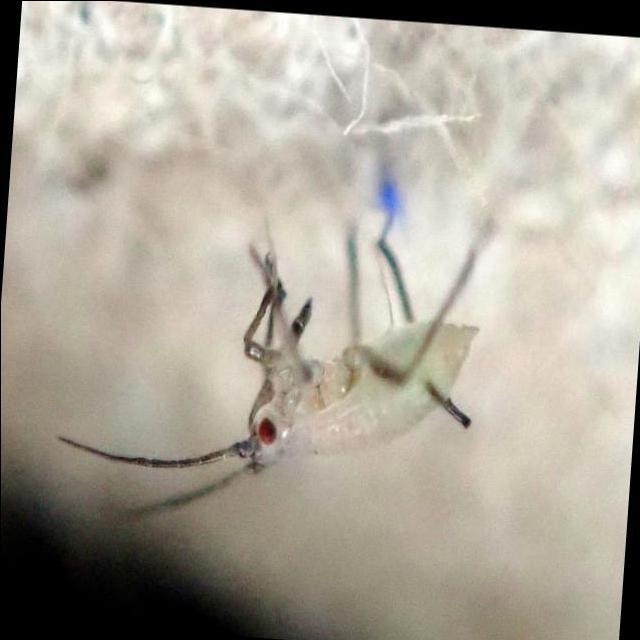aphid: (60, 155, 513, 558)
